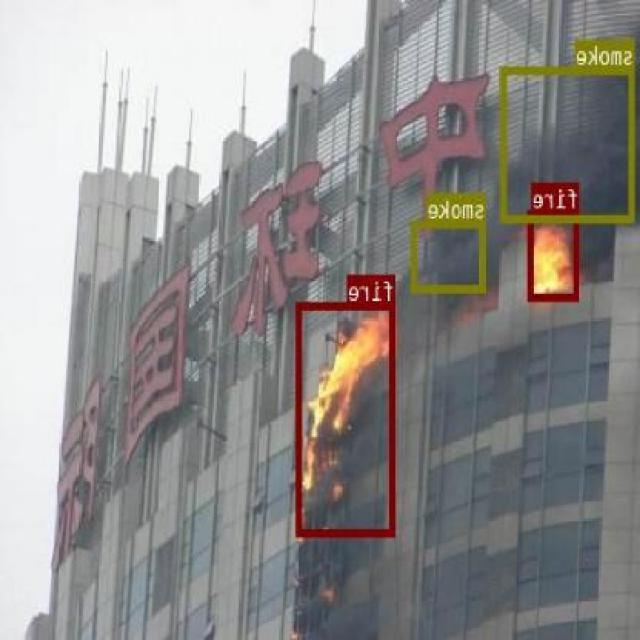Fire: (298, 302, 397, 536), (529, 209, 582, 300)
Smoke: (502, 66, 636, 222), (413, 219, 487, 292)
